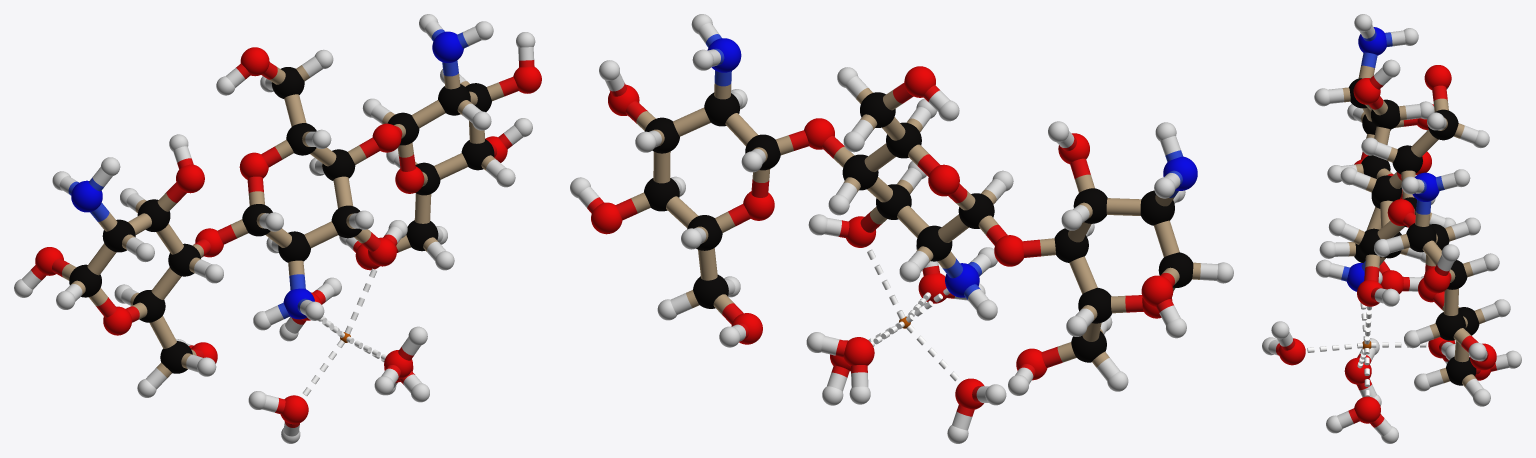
3 views of the same model, side by side, from view 1: azimuth 30°, elevation 25°; view 2: azimuth 150°, elevation 25°; view 3: azimuth 270°, elevation 25° (orthographic). The views are drawn at different scales.
Parts seen in each view (by area): view 1: atoms, bonds, pbonds; view 2: atoms, bonds, pbonds; view 3: atoms, bonds, pbonds.
Boxes of the visible parts, x1,y1,x2,y2 form: atoms: [14, 14, 541, 443]; bonds: [22, 21, 534, 436]; pbonds: [302, 268, 386, 396]; atoms: [570, 14, 1233, 443]; bonds: [578, 23, 1217, 430]; pbonds: [867, 249, 959, 381]; atoms: [1262, 14, 1521, 443]; bonds: [1268, 25, 1508, 436]; pbonds: [1307, 303, 1426, 396].
Bounding box in the file's own units: 16.13 × 10.54 × 7.22.
